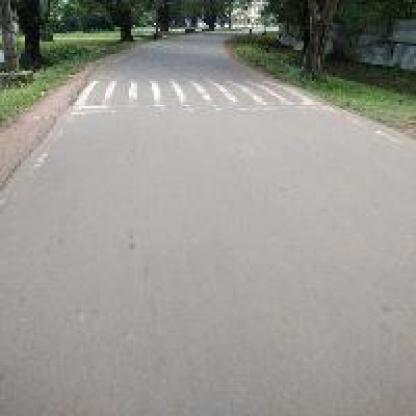Speed Bump: (73, 77, 308, 114)
